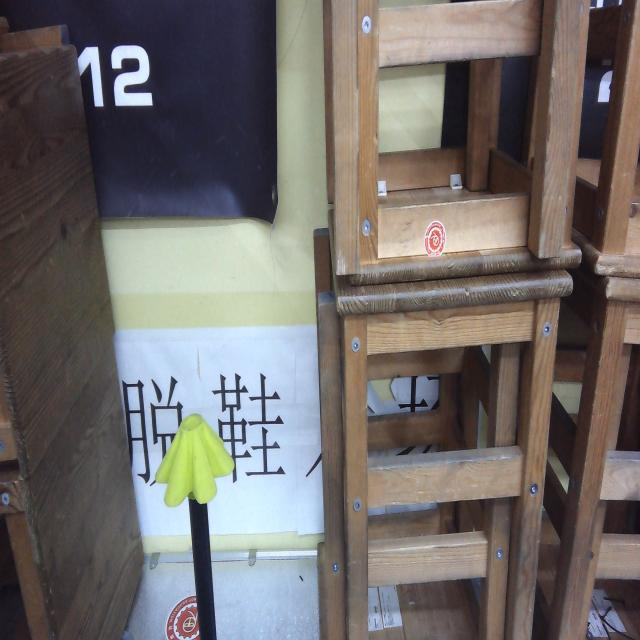Yellow-Stake-Head: (155, 414, 235, 508)
